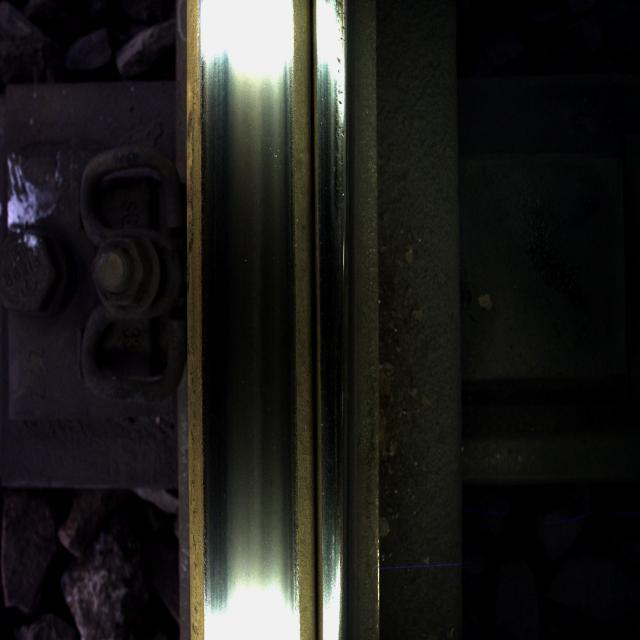crack: (322, 6, 368, 510)
normal: (194, 16, 290, 590)
